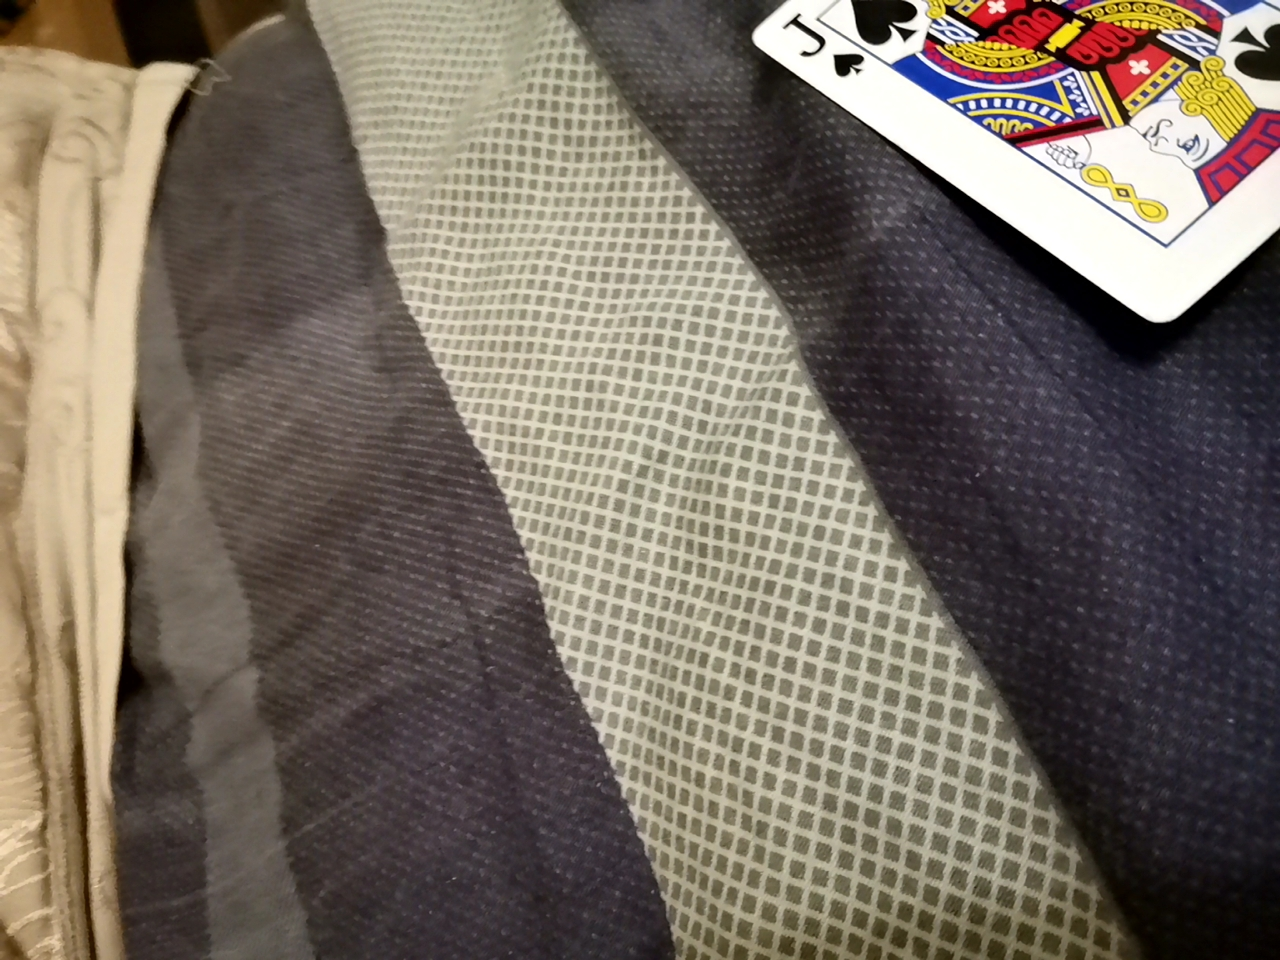ht j: (688, 0, 1280, 312)
